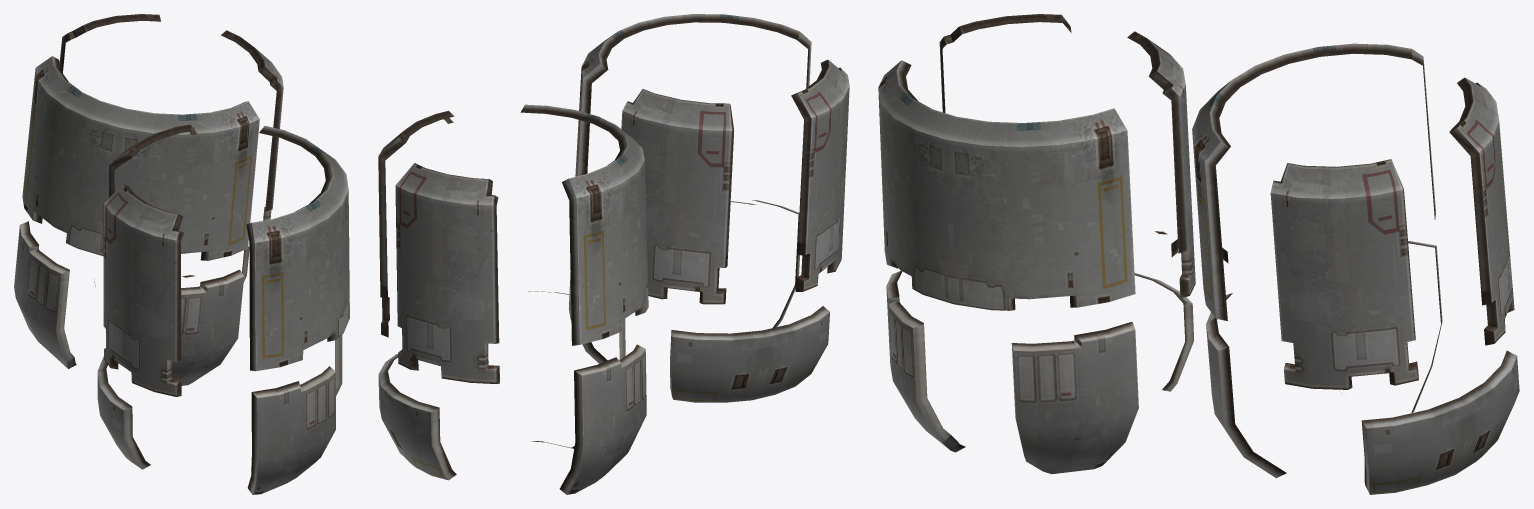
The model's file is prop_static_tr1_container_01_07.glb.
3 renders of one model, left to right at view 1: azimuth 30°, elevation 25°; view 2: azimuth 150°, elevation 25°; view 3: azimuth 270°, elevation 25°, orthographic. The views are drawn at different scales.
Parts seen in each view (by area): view 1: tr1_container_01_07_mat01a_LOD0; view 2: tr1_container_01_07_mat01a_LOD0; view 3: tr1_container_01_07_mat01a_LOD0.
Boxes of the visible parts, x1=… form: tr1_container_01_07_mat01a_LOD0: x1=14, y1=14, x2=349, y2=494; tr1_container_01_07_mat01a_LOD0: x1=378, y1=14, x2=849, y2=494; tr1_container_01_07_mat01a_LOD0: x1=878, y1=14, x2=1519, y2=494.
Size of what is drawn, in the model's own units: 3.52 by 3.72 by 5.68.
1 material, 1 textured.
